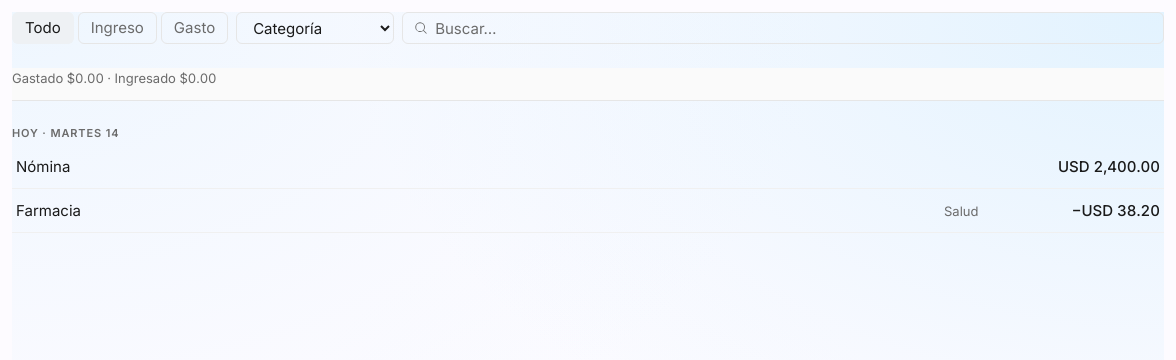
Test: Historial — Checkpoint IV-B: filas interactivas, expansión en línea con Editar › clic de nuevo en la misma fila la colapsa
Step 1. Click the button "Farmacia Salud −USD 38.20" → [48, 210], box [12,189,1164,233]
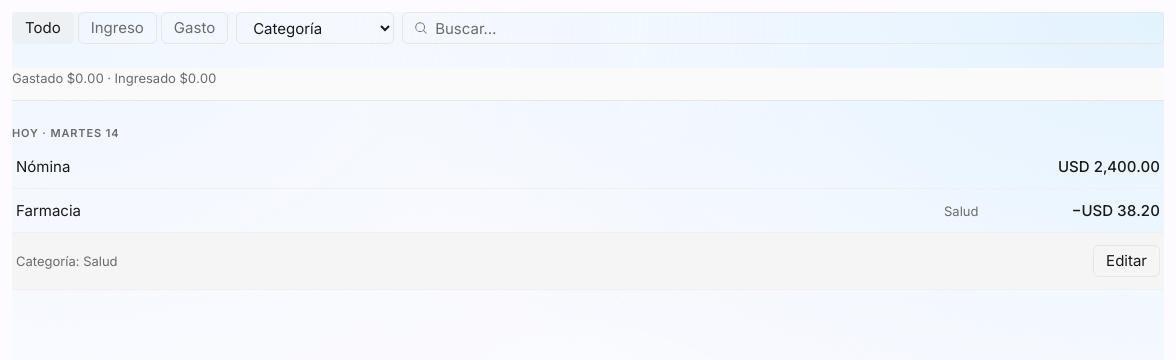
Expected: the text "Categoría: Salud" is shown, [16,251,118,271]
Step 2. Click the button "Farmacia Salud −USD 38.20" → [48, 210], box [12,189,1164,233]
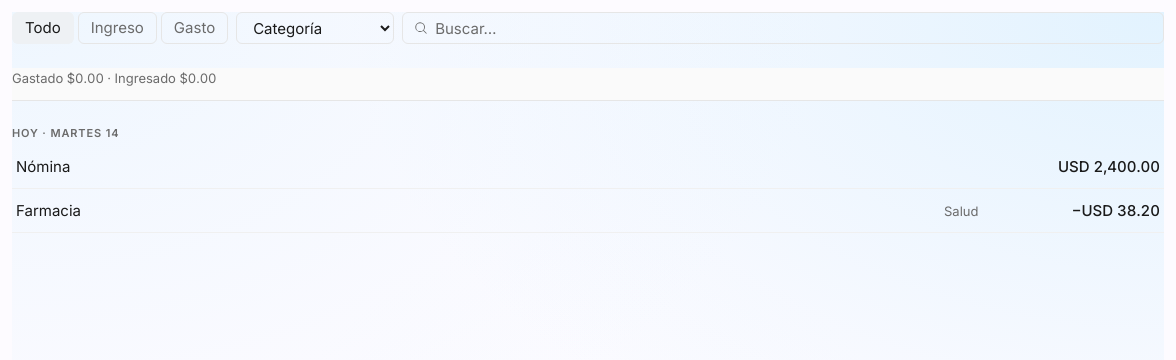
Expected: the text "Categoría: Salud" is gone
